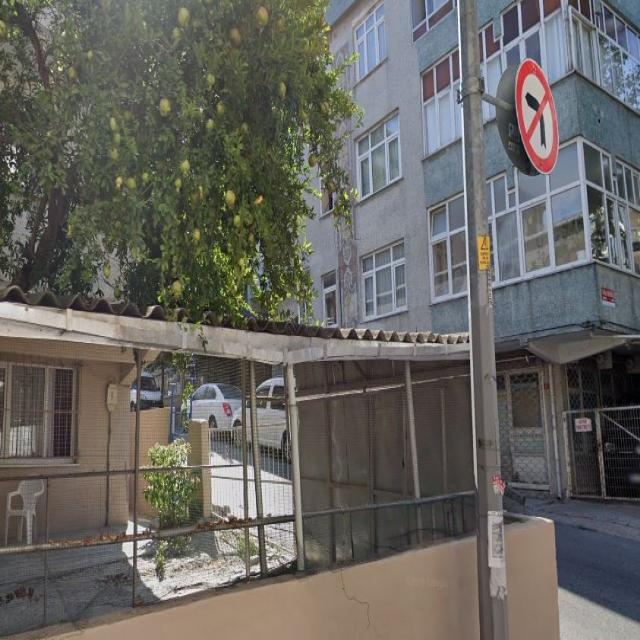soladonulmez: (515, 57, 559, 175)
